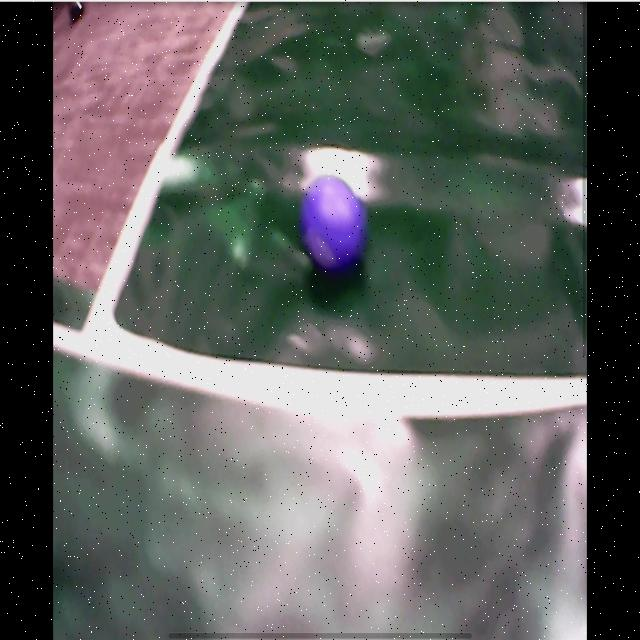ball: (304, 172, 365, 277)
